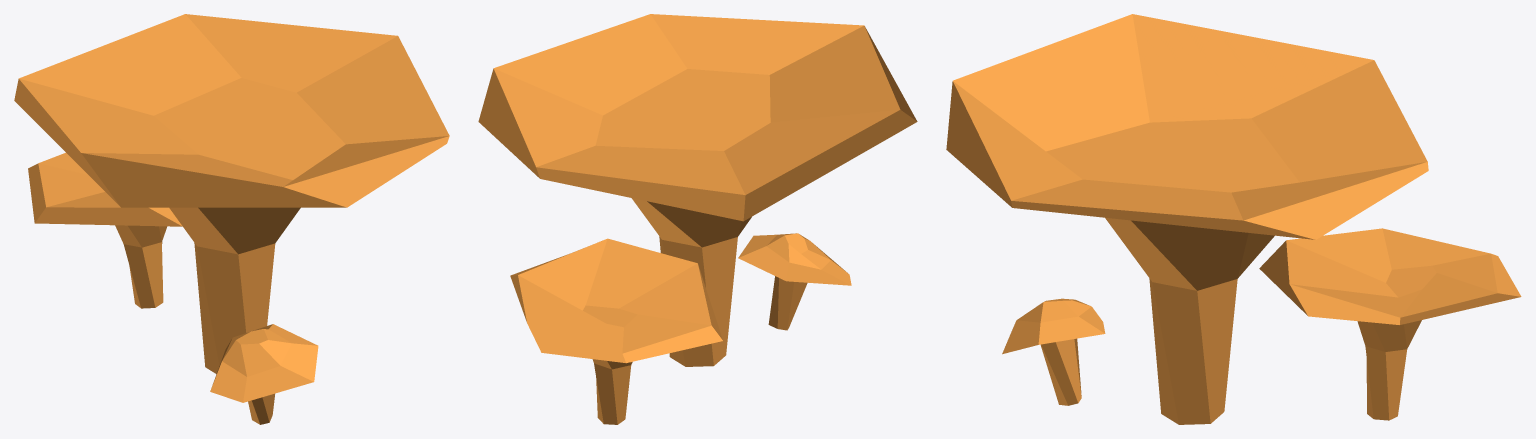
File: seta_3.fbx
3 renders of one model, left to right at view 1: azimuth 30°, elevation 25°; view 2: azimuth 150°, elevation 25°; view 3: azimuth 270°, elevation 25°, orthographic. The views are drawn at different scales.
Parts seen in each view (by area): view 1: chanterelles; view 2: chanterelles; view 3: chanterelles.
Boxes of the visible parts, x1,y1,x2,y2 form: chanterelles: [14, 14, 449, 424]; chanterelles: [478, 14, 917, 424]; chanterelles: [946, 14, 1521, 424].
Size of the model in its own units: 27.54 by 20.33 by 34.2.
